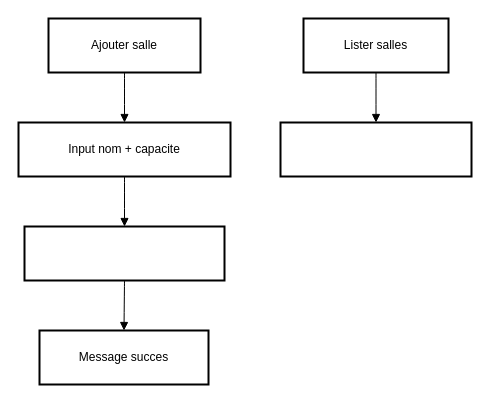
Image size: 489x402. Some labels were removed from this diagram. Here are the shapes that lost their labels. From the top down, the centre of each, then its label:
At point 375,149: "Appel lister_salles".
At point 124,253: "Appel ajouter_salle".
